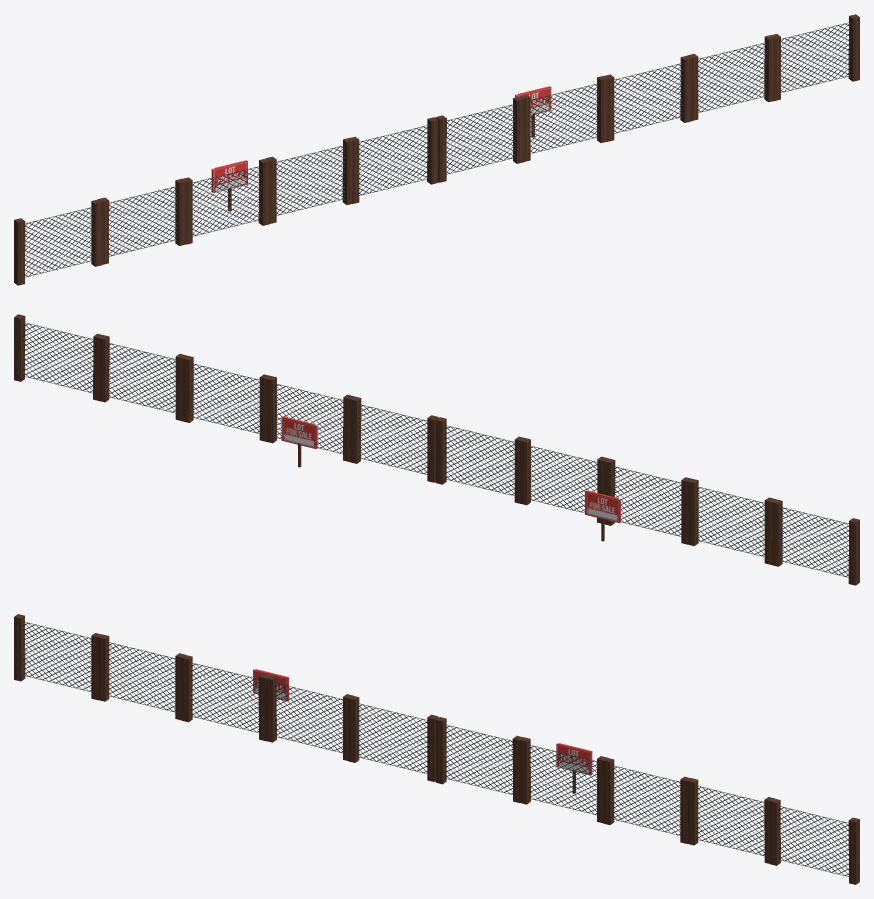
Rendered from lot for sale model.fbx.
3 views of the same model, one above another, from view 1: azimuth 30°, elevation 25°; view 2: azimuth 150°, elevation 25°; view 3: azimuth 330°, elevation 25° (orthographic).
Parts seen in each view (by area): view 1: Plane.002, Cube.019, Cube.002, Cube.001; view 2: Plane.002, Cube.019, Cube.001, Cube.002; view 3: Plane.002, Cube.019, Cube.001, Cube.002.
Boxes of the visible parts, x1,y1,x2,y2 form: Plane.002: [25, 22, 850, 277]; Cube.019: [14, 14, 859, 285]; Cube.002: [211, 160, 247, 211]; Cube.001: [515, 86, 551, 136]; Plane.002: [23, 322, 848, 577]; Cube.019: [14, 314, 859, 585]; Cube.001: [281, 416, 317, 467]; Cube.002: [585, 490, 620, 541]; Plane.002: [23, 621, 848, 876]; Cube.019: [14, 614, 859, 884]; Cube.001: [556, 742, 592, 793]; Cube.002: [253, 668, 288, 701].
Bounding box in the file's own units: 23918 × 1714 × 1151.
